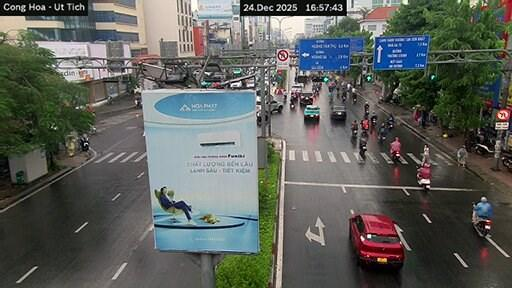motorbike: (472, 217, 491, 236), (475, 139, 495, 154), (501, 150, 511, 171), (417, 174, 430, 190), (79, 133, 89, 151), (391, 150, 401, 164), (359, 140, 366, 159), (135, 97, 142, 109), (378, 133, 384, 143), (387, 120, 393, 129), (352, 129, 357, 138), (371, 118, 376, 127), (107, 96, 112, 103), (290, 101, 294, 108), (352, 96, 356, 103), (342, 92, 345, 101), (283, 93, 286, 101)
